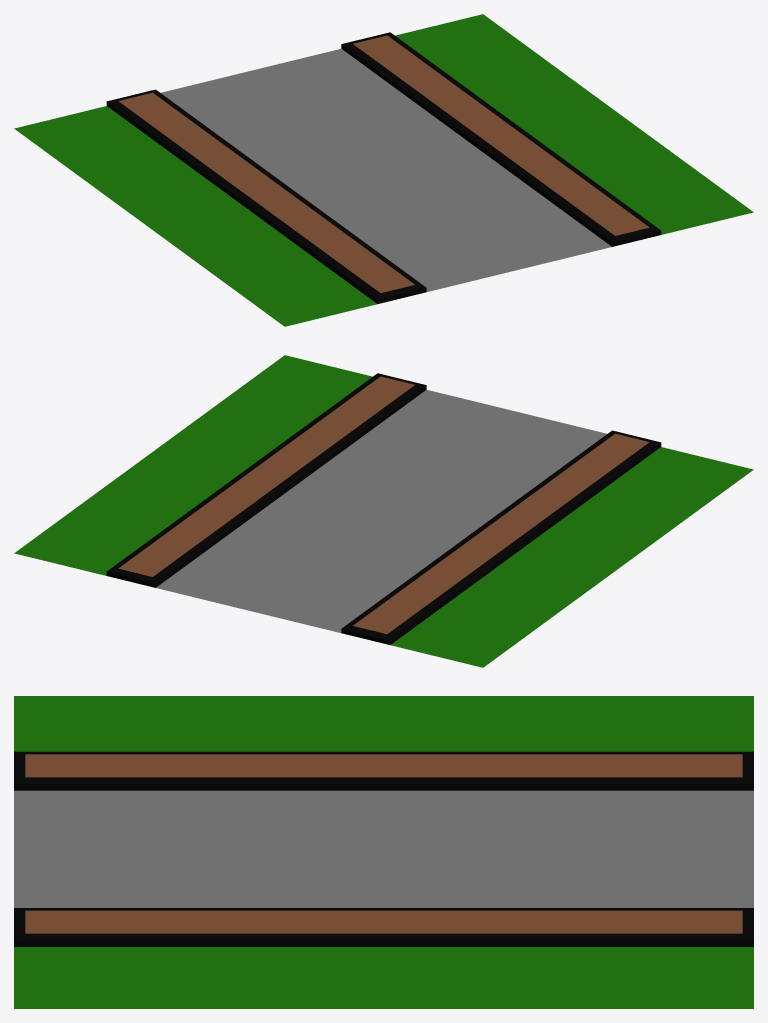
The model's file is Chão3.fbx.
3 renders of one model, top to bottom at view 1: azimuth 30°, elevation 25°; view 2: azimuth 150°, elevation 25°; view 3: azimuth 270°, elevation 25°, orthographic. The views are drawn at different scales.
Parts seen in each view (by area): view 1: Plane; view 2: Plane; view 3: Plane.
Boxes of the visible parts, x1,y1,x2,y2 form: Plane: (14, 14, 753, 326); Plane: (14, 355, 753, 667); Plane: (14, 696, 753, 1008).
Size of the model in its own units: 939 by 939 by 11.77.
